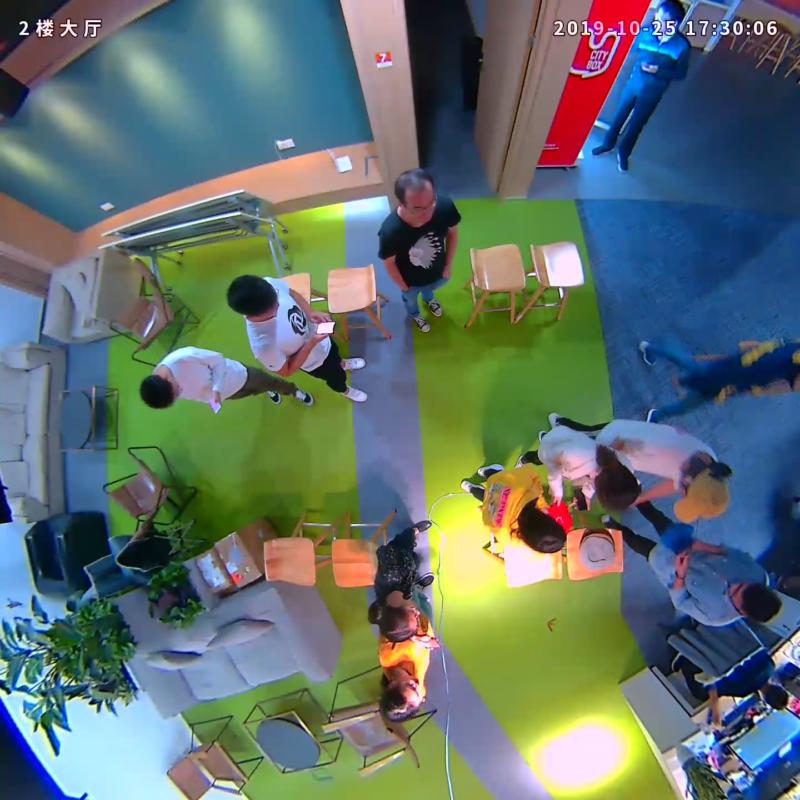head: (672, 461, 729, 528), (227, 273, 279, 323), (393, 168, 437, 224), (593, 464, 640, 516), (727, 579, 781, 624), (522, 511, 568, 556), (382, 674, 424, 720), (377, 600, 422, 641), (139, 372, 180, 408), (652, 1, 686, 39)
